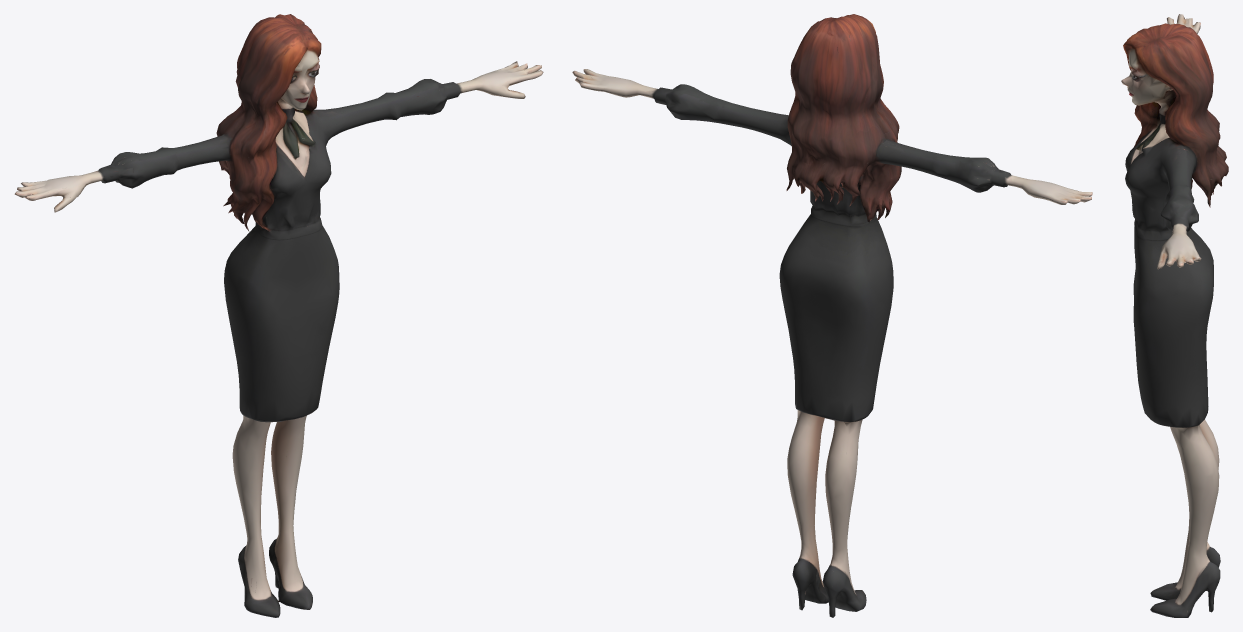
Rendered from Meshy_AI_Mystic_Elegance_0108085045_texture.fbx.
The picture shows the model from 3 angles, left to right: view 1: azimuth 30°, elevation 25°; view 2: azimuth 150°, elevation 25°; view 3: azimuth 270°, elevation 25°; orthographic projection. The views are drawn at different scales.
Parts seen in each view (by area): view 1: Mesh_0; view 2: Mesh_0; view 3: Mesh_0.
Boxes of the visible parts, x1,y1,x2,y2 form: Mesh_0: [14, 14, 543, 617]; Mesh_0: [572, 14, 1092, 617]; Mesh_0: [1121, 14, 1228, 617].
Bounding box in the file's own units: 179 × 191 × 32.29.
1 material, 1 textured.
